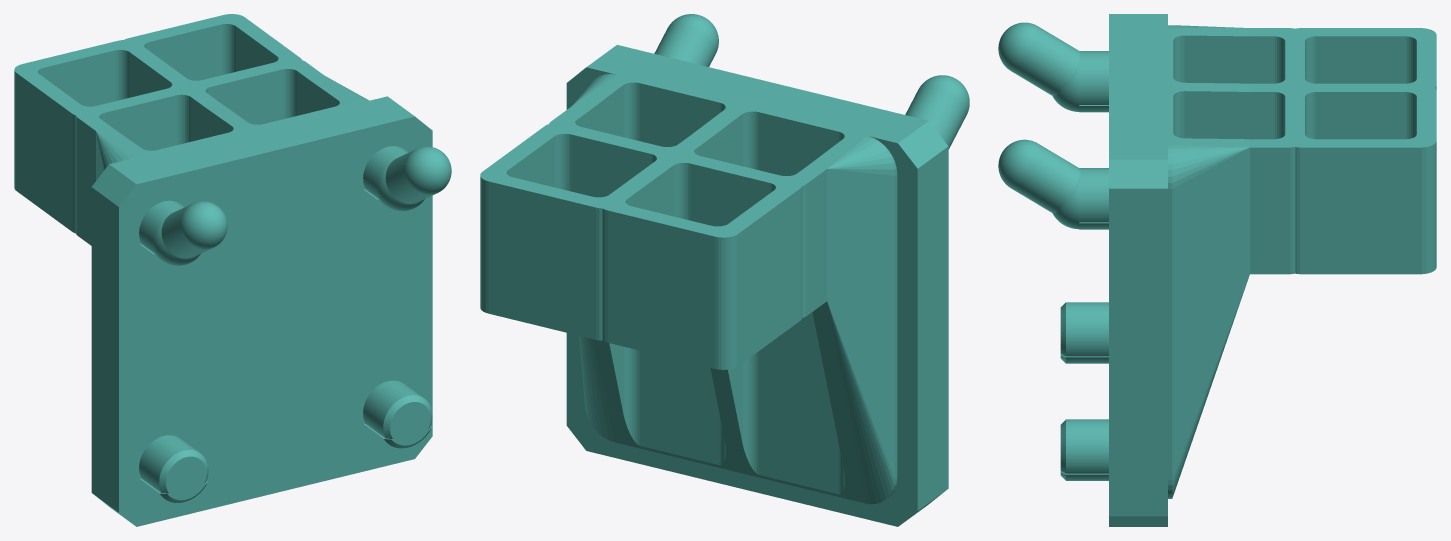
Rendered from part-pegstr-p02__v2__pegstr-p02-four-square-seats__installed__fit-9c7be3cc78.glb.
The picture shows the model from 3 angles, left to right: view 1: azimuth 30°, elevation 25°; view 2: azimuth 150°, elevation 25°; view 3: azimuth 270°, elevation 25°; orthographic projection. The views are drawn at different scales.
Parts seen in each view (by area): view 1: Actual holder mesh; view 2: Actual holder mesh; view 3: Actual holder mesh.
Part boxes in pixels (<box>): Actual holder mesh: <box>14,14,451,526</box>; Actual holder mesh: <box>480,14,969,526</box>; Actual holder mesh: <box>998,14,1436,526</box>.
Size of the model in its own units: 0.0356 by 0.0374 by 0.0401.
